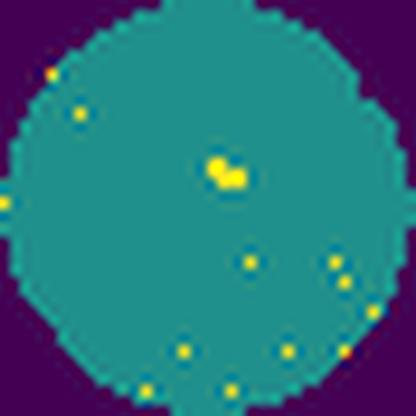Loc: (203, 154, 246, 188)
